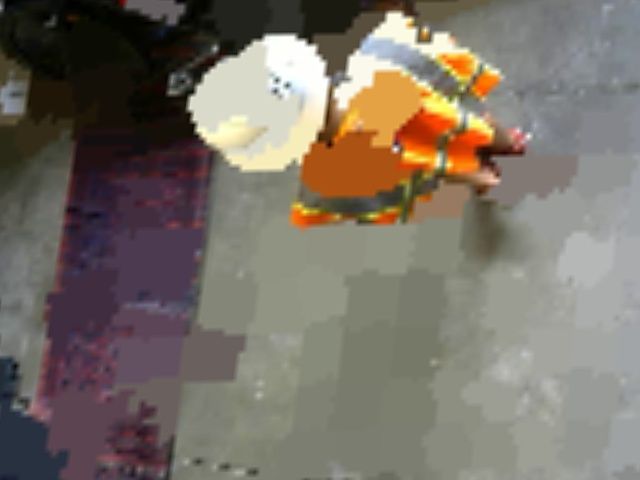three: (236, 75, 294, 124)
